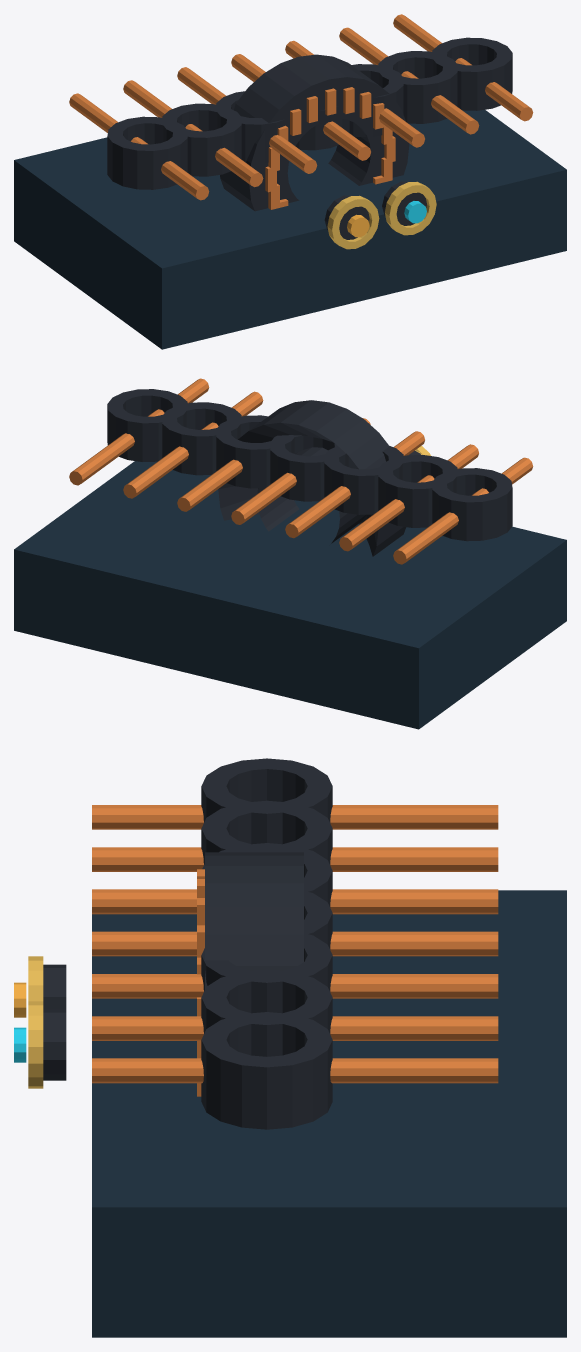
The model's file is 20_L82_ClipOnFerriteCoreRack.fbx.
The picture shows the model from 3 angles, top to bottom: view 1: azimuth 30°, elevation 25°; view 2: azimuth 150°, elevation 25°; view 3: azimuth 270°, elevation 25°; orthographic projection. The views are drawn at different scales.
Visible parts, largest first — view 1: ClipOnFerriteCoreRack, ClipOnFerriteCoreRack_Part_0015; view 2: ClipOnFerriteCoreRack, ClipOnFerriteCoreRack_Part_0015; view 3: ClipOnFerriteCoreRack, ClipOnFerriteCoreRack_Part_0015.
Boxes of the visible parts, x1,y1,x2,y2 form: ClipOnFerriteCoreRack: (14, 14, 566, 349); ClipOnFerriteCoreRack_Part_0015: (220, 54, 409, 211); ClipOnFerriteCoreRack: (14, 378, 566, 729); ClipOnFerriteCoreRack_Part_0015: (218, 400, 406, 556); ClipOnFerriteCoreRack: (14, 758, 566, 1337); ClipOnFerriteCoreRack_Part_0015: (205, 852, 303, 989).
Size of the model in its own units: 120 by 55.26 by 88.5.
